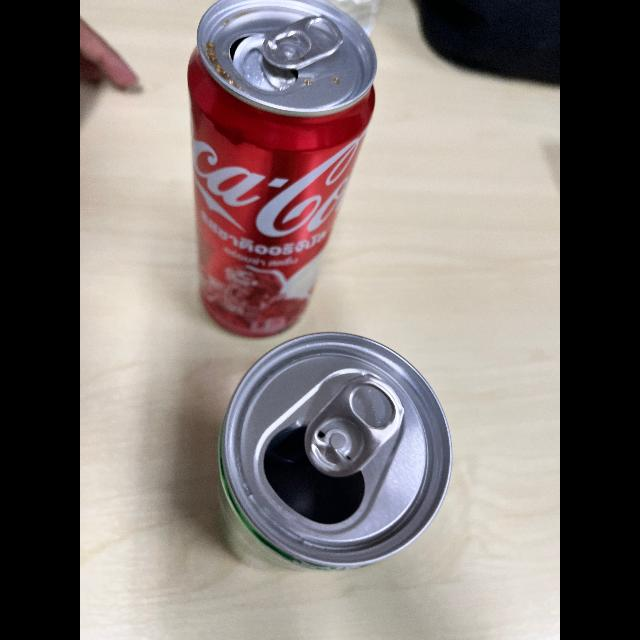can: (205, 326, 458, 586), (185, 1, 375, 340)
